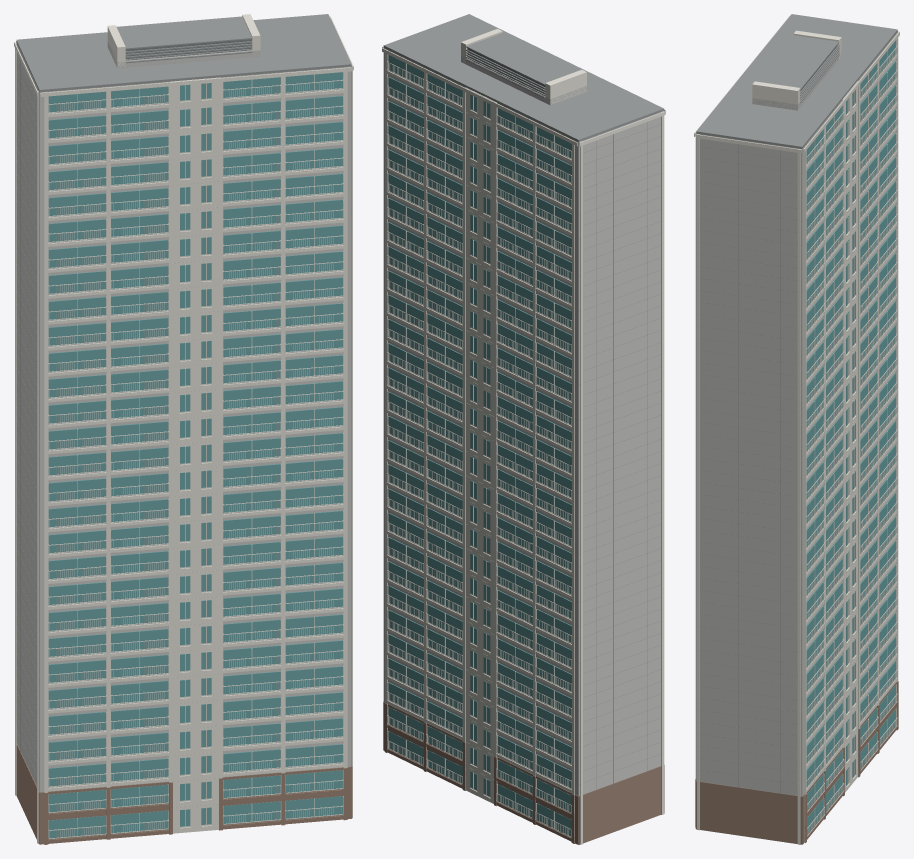
Rendered from bespoke-jamsil-els-144.glb.
3 renders of one model, left to right at view 1: azimuth 30°, elevation 25°; view 2: azimuth 150°, elevation 25°; view 3: azimuth 270°, elevation 25°, orthographic. The views are drawn at different scales.
Visible parts, largest first — view 1: Els144_editable_Els144_turquoise_balcony_glazing, Els144_editable_Els144_light_grey_solid_wall, Els144_white_exact_chunk_2, Els144_white_exact_chunk_3, Els144_white_exact_chunk_4, Els144_editable_Els144_modest_grey_flat_roof_caps, Els144_editable_Els144_muted_ground_wall, Els144_editable_Els144_narrow_charcoal_service_strips; view 2: Els144_editable_Els144_turquoise_balcony_glazing, Els144_editable_Els144_light_grey_solid_wall, Els144_white_exact_chunk_0, Els144_white_exact_chunk_1, Els144_editable_Els144_modest_grey_flat_roof_caps, Els144_white_exact_chunk_2, Els144_editable_Els144_muted_ground_wall, Els144_white_exact_chunk_4; view 3: Els144_editable_Els144_light_grey_solid_wall, Els144_editable_Els144_turquoise_balcony_glazing, Els144_white_exact_chunk_0, Els144_editable_Els144_modest_grey_flat_roof_caps, Els144_white_exact_chunk_1, Els144_white_exact_chunk_4, Els144_white_exact_chunk_2, Els144_editable_Els144_muted_ground_wall.
Boxes of the visible parts, x1,y1,x2,y2 form: Els144_editable_Els144_turquoise_balcony_glazing: (48,72,343,838); Els144_editable_Els144_light_grey_solid_wall: (16,41,351,807); Els144_white_exact_chunk_2: (14,41,220,843); Els144_white_exact_chunk_3: (44,77,343,824); Els144_white_exact_chunk_4: (40,14,353,817); Els144_editable_Els144_modest_grey_flat_roof_caps: (16,14,351,786); Els144_editable_Els144_muted_ground_wall: (16,743,352,844); Els144_editable_Els144_narrow_charcoal_service_strips: (125,39,251,58); Els144_editable_Els144_turquoise_balcony_glazing: (388,55,571,836); Els144_editable_Els144_light_grey_solid_wall: (383,48,664,796); Els144_white_exact_chunk_0: (387,55,496,803); Els144_white_exact_chunk_1: (385,49,571,837); Els144_editable_Els144_modest_grey_flat_roof_caps: (383,14,664,794); Els144_white_exact_chunk_2: (382,48,665,844); Els144_editable_Els144_muted_ground_wall: (383,701,664,844); Els144_white_exact_chunk_4: (382,29,665,113); Els144_editable_Els144_light_grey_solid_wall: (696,32,897,796); Els144_editable_Els144_turquoise_balcony_glazing: (806,40,895,834); Els144_white_exact_chunk_0: (806,81,858,835); Els144_editable_Els144_modest_grey_flat_roof_caps: (696,14,897,795); Els144_white_exact_chunk_1: (804,63,897,842); Els144_white_exact_chunk_4: (694,16,841,844); Els144_white_exact_chunk_2: (803,31,899,776); Els144_editable_Els144_muted_ground_wall: (695,681,898,844).
Bounding box in the file's own units: 33.09 × 82.2 × 21.36.
